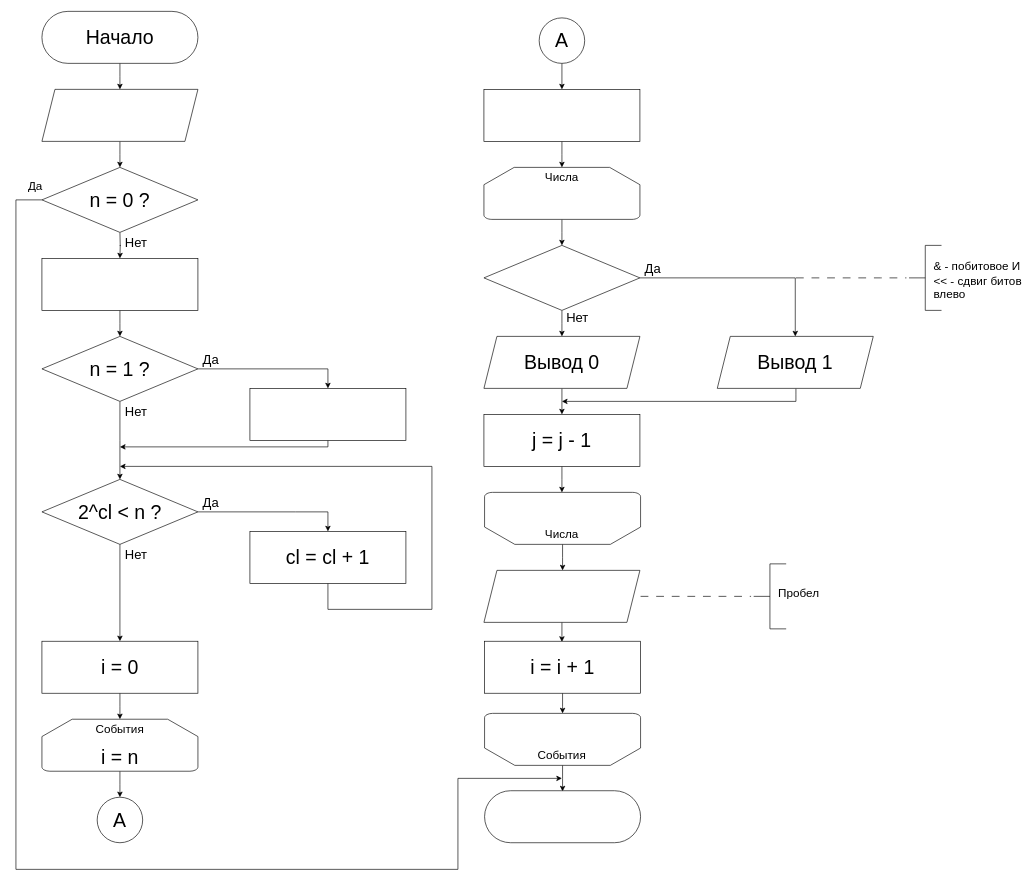
This 1035x886 diagram has some shape labels left out. The shapes that lost their labels are listed below. From the top down, each one's box as (x1, y1, x2, y2) in pixels, then its label:
(41, 89, 198, 141): Ввод n
(483, 89, 640, 141): j = cl - 1
(483, 167, 640, 219): j < 0
(41, 258, 198, 310): cl = 0
(483, 245, 640, 310): i & (1 << j) != 0 ?
(249, 388, 406, 440): cl = 1
(483, 570, 640, 622): Вывод " "
(484, 790, 641, 843): Конец
